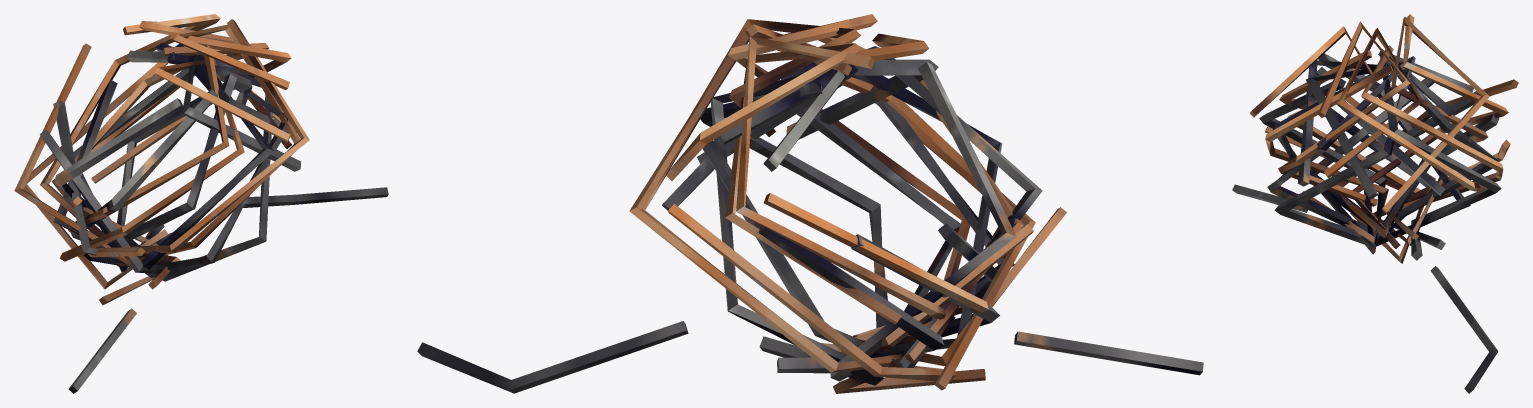
The model's file is BushWire.glb.
3 renders of one model, left to right at view 1: azimuth 30°, elevation 25°; view 2: azimuth 150°, elevation 25°; view 3: azimuth 270°, elevation 25°, orthographic. The views are drawn at different scales.
Parts seen in each view (by area): view 1: Copper, Steel; view 2: Steel, Copper; view 3: Steel, Copper.
Boxes of the visible parts, x1,y1,x2,y2 form: Copper: (14, 14, 309, 304); Steel: (40, 42, 388, 393); Steel: (417, 46, 1203, 393); Copper: (629, 14, 1066, 393); Steel: (1232, 49, 1501, 393); Copper: (1250, 14, 1518, 263).
Size of the model in its own units: 3.85 by 2.25 by 2.32.
2 materials, 2 textured.
